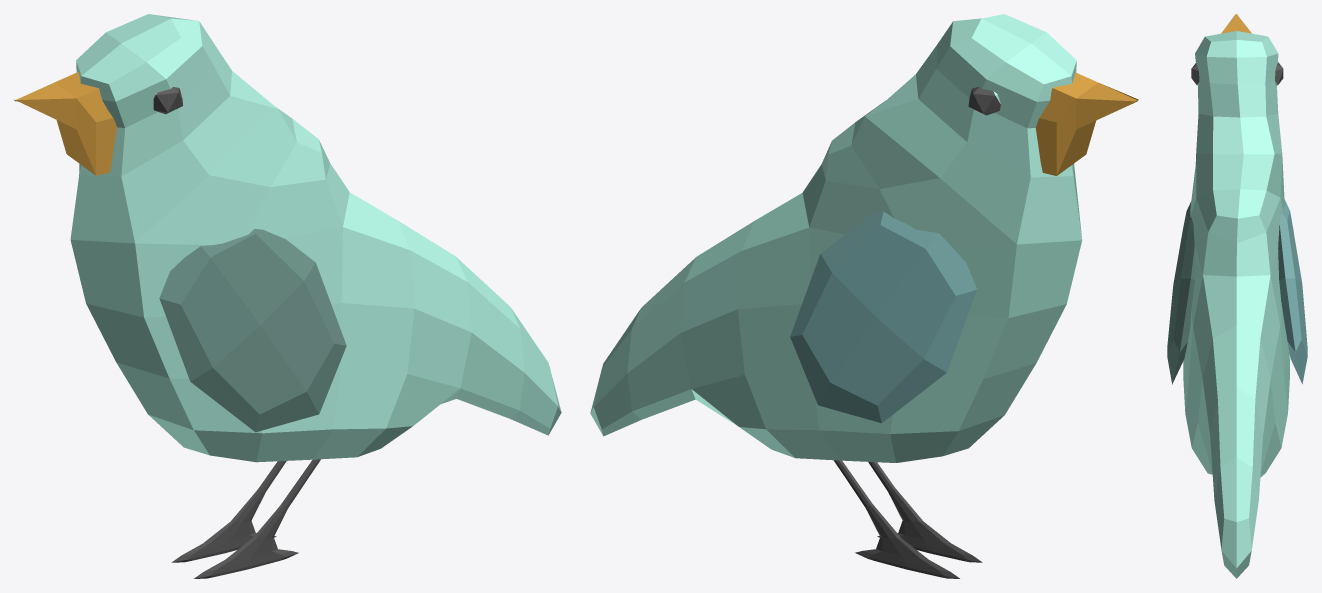
The model's file is Pajaro.fbx.
3 views of the same model, side by side, from view 1: azimuth 30°, elevation 25°; view 2: azimuth 150°, elevation 25°; view 3: azimuth 270°, elevation 25° (orthographic). The views are drawn at different scales.
Parts seen in each view (by area): view 1: Pajaro; view 2: Pajaro; view 3: Pajaro.
Boxes of the visible parts, x1,y1,x2,y2 form: Pajaro: (14,14,561,578); Pajaro: (590,14,1138,578); Pajaro: (1167,14,1307,578).
Bounding box in the file's own units: 394 × 384 × 113.
